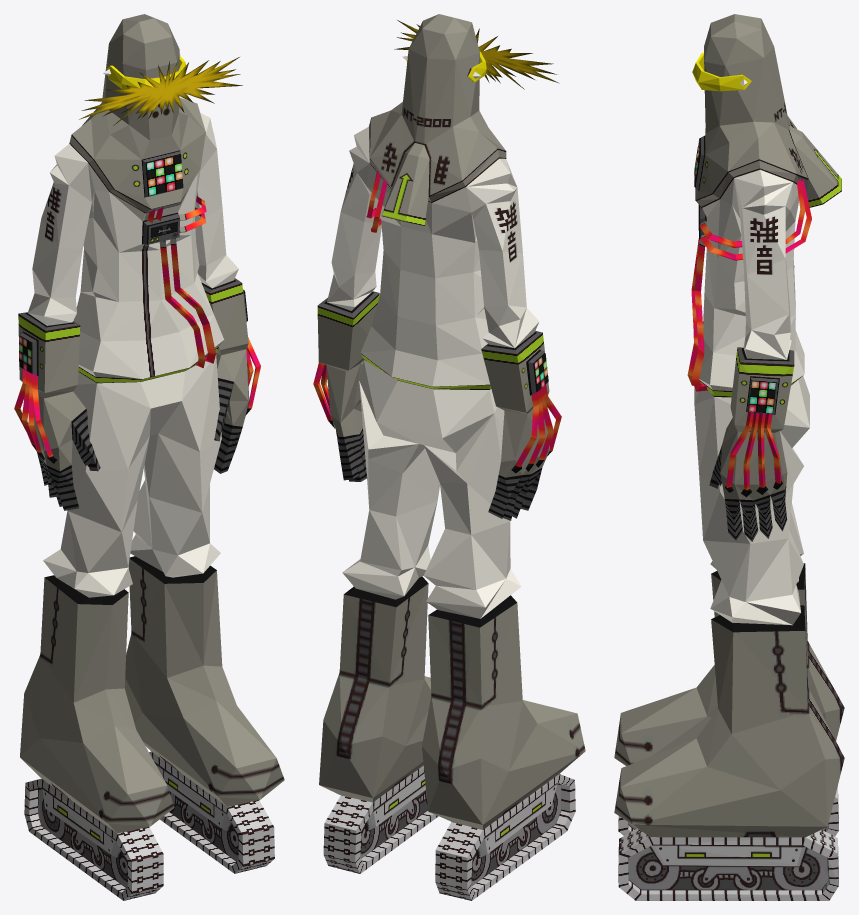
Rendered from ntank.obj.
3 renders of one model, left to right at view 1: azimuth 30°, elevation 25°; view 2: azimuth 150°, elevation 25°; view 3: azimuth 270°, elevation 25°, orthographic. The views are drawn at different scales.
Parts seen in each view (by area): view 1: NTank_MDLB_113584_P20, NTank_MDLB_76432_P20; view 2: NTank_MDLB_113584_P20, NTank_MDLB_76432_P20; view 3: NTank_MDLB_113584_P20.
Part boxes in pixels (<box>): NTank_MDLB_113584_P20: <box>14,14,284,900</box>; NTank_MDLB_76432_P20: <box>79,57,242,125</box>; NTank_MDLB_113584_P20: <box>313,14,585,900</box>; NTank_MDLB_76432_P20: <box>394,20,559,89</box>; NTank_MDLB_113584_P20: <box>614,14,844,900</box>.
Size of the model in its own units: 5.22 by 18.34 by 4.52.
2 materials, 2 textured.
